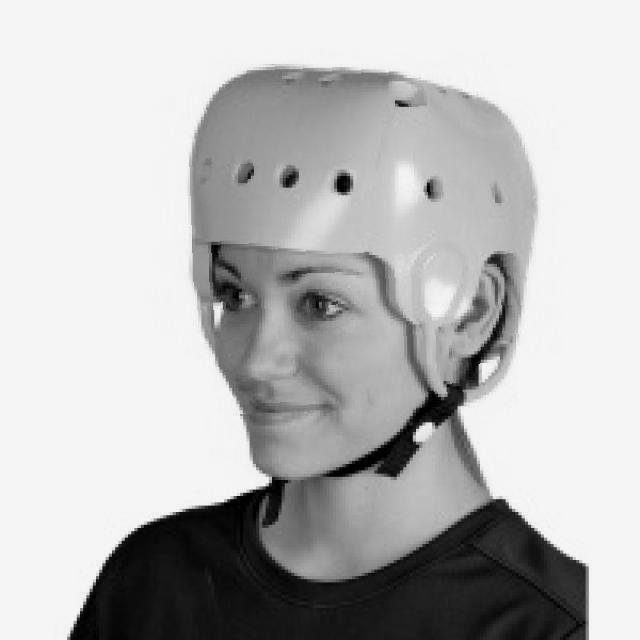helmet: (186, 59, 541, 413)
